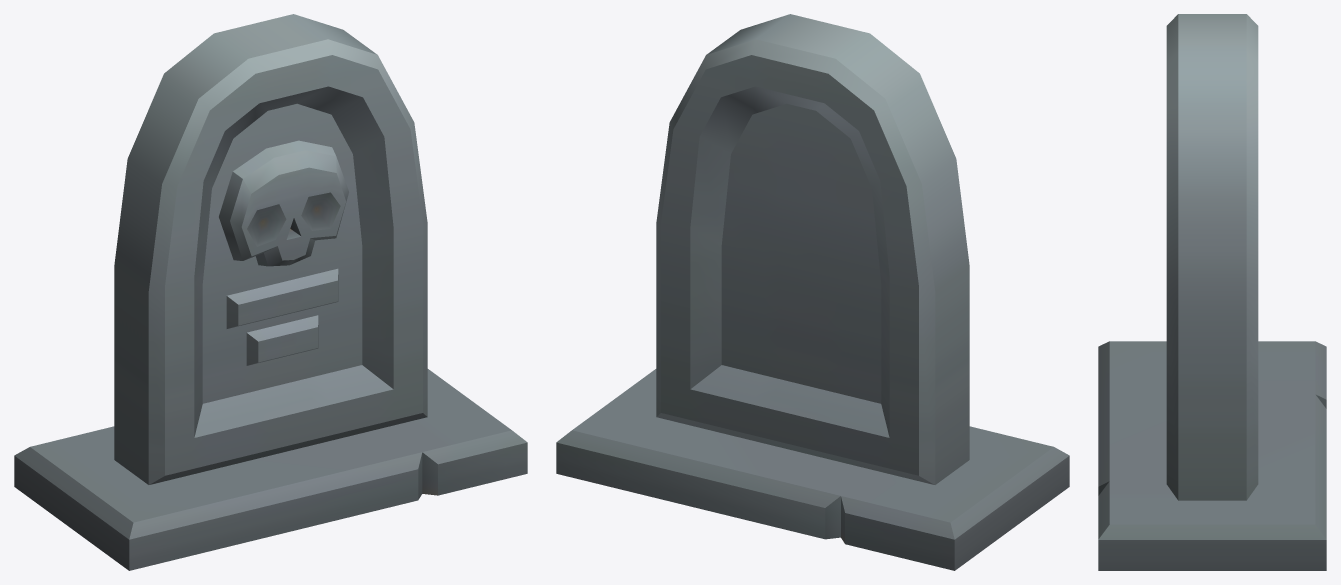
Rendered from h_grave_A.glb.
The picture shows the model from 3 angles, left to right: view 1: azimuth 30°, elevation 25°; view 2: azimuth 150°, elevation 25°; view 3: azimuth 270°, elevation 25°; orthographic projection.
Parts seen in each view (by area): view 1: grave_A; view 2: grave_A; view 3: grave_A.
Boxes of the visible parts, box(x1,y1,x2,y2) form: grave_A: box(14, 14, 527, 570); grave_A: box(556, 14, 1069, 570); grave_A: box(1098, 14, 1326, 570).
Bounding box in the file's own units: 2 × 2.13 × 0.9999.
Materials: 1 (1 with a texture image).
